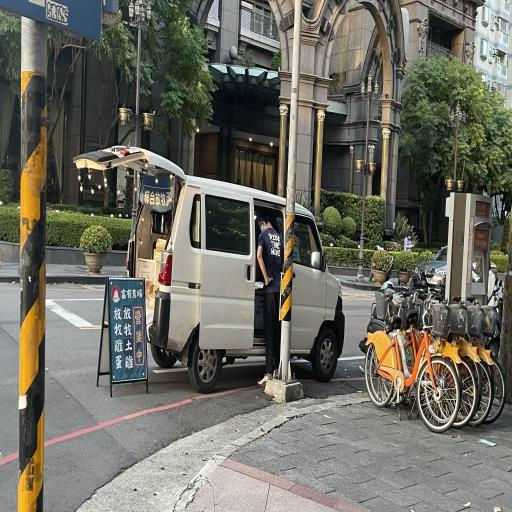MIU: (132, 318, 241, 423)
car: (66, 133, 344, 383)
redline: (0, 373, 266, 478)
